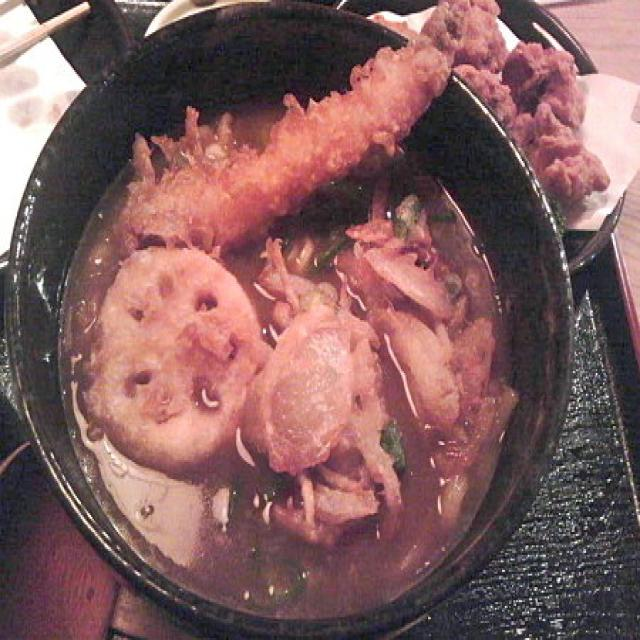面条主食: (52, 30, 518, 616)
